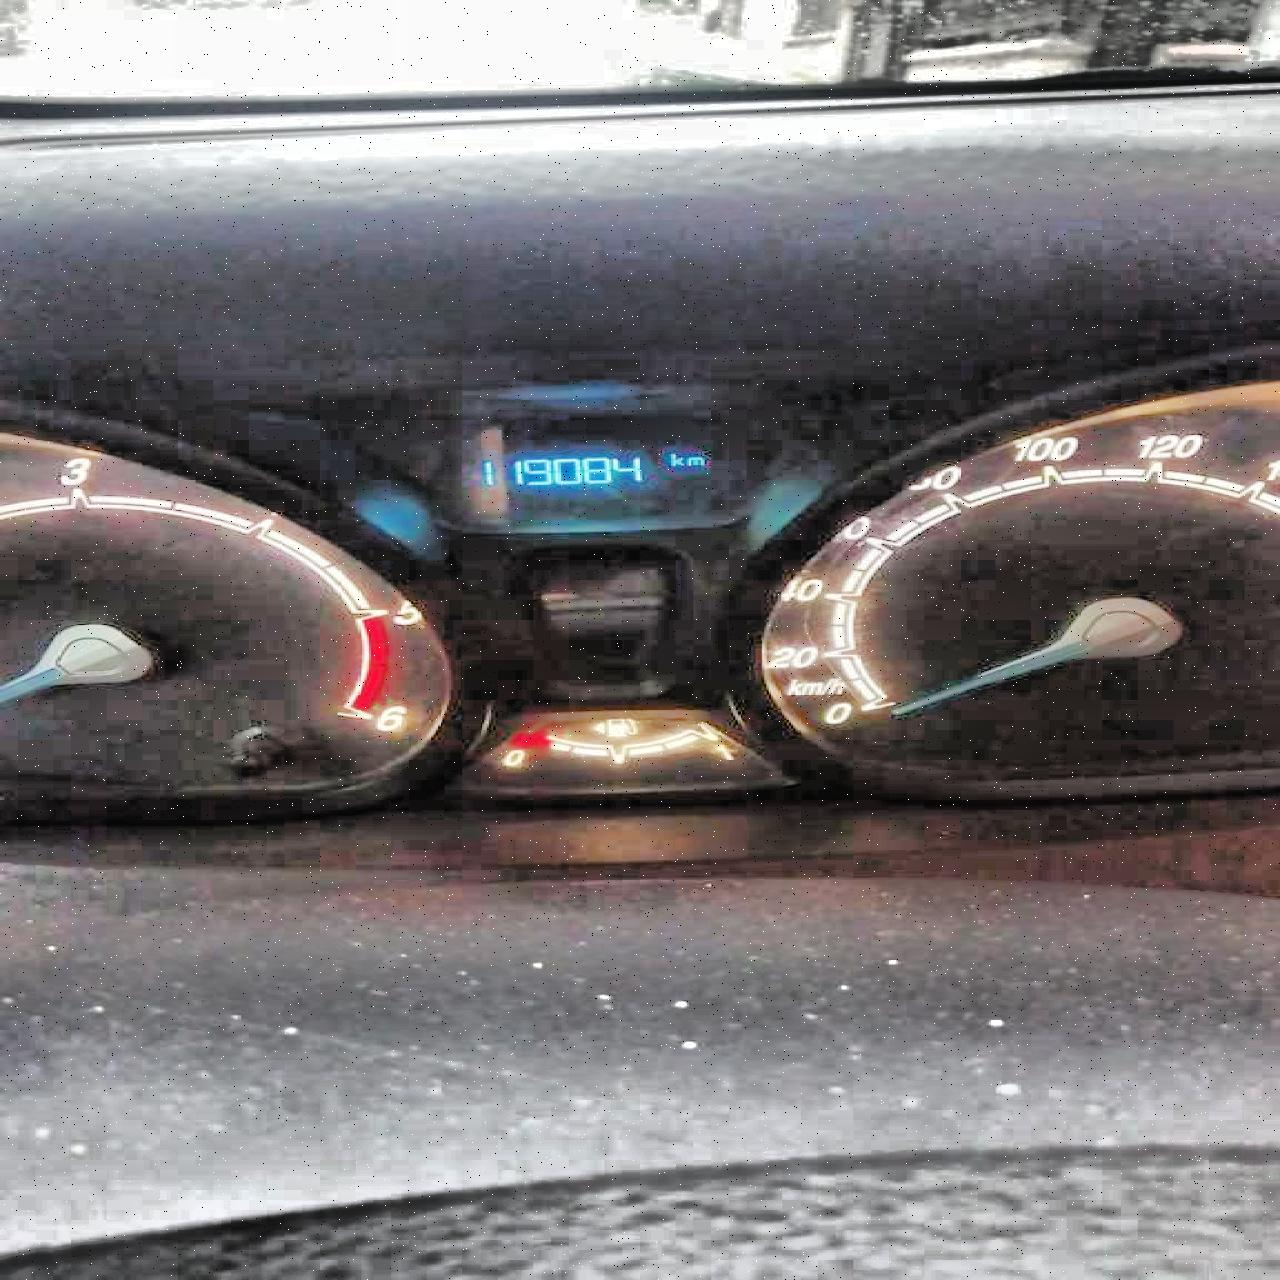0: (551, 456, 580, 484)
1: (479, 458, 493, 490), (511, 458, 522, 488)
4: (611, 456, 642, 482)
8: (580, 456, 610, 483)
9: (522, 457, 551, 485)
X: (667, 451, 685, 467), (685, 454, 704, 467)
odometer: (447, 435, 734, 509)
